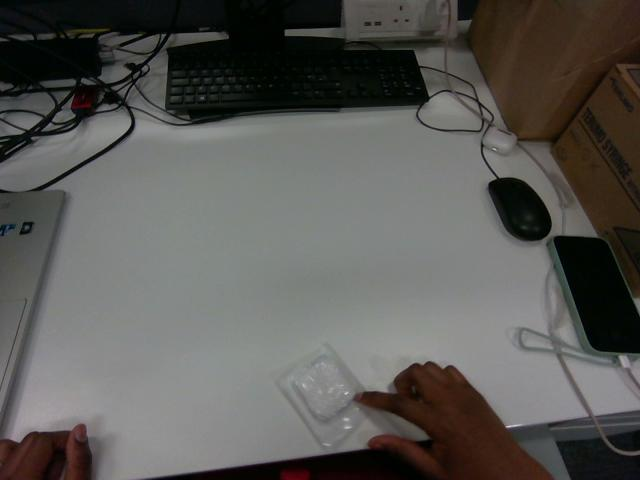gauze: (276, 344, 365, 447)
